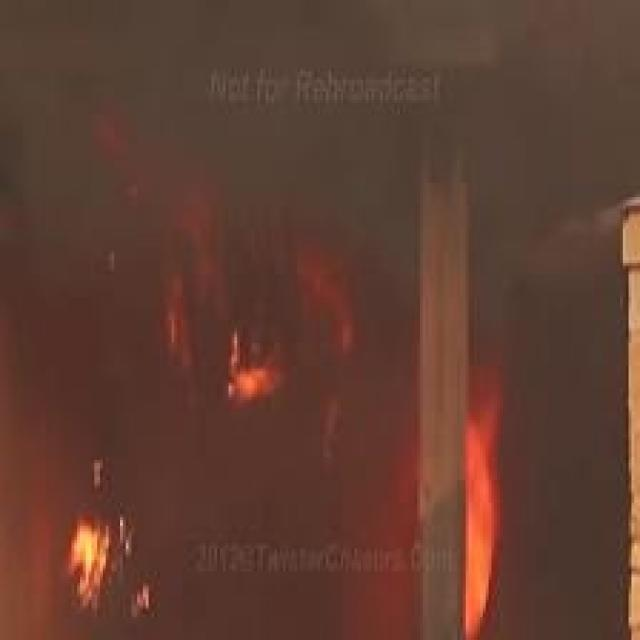Fire: (463, 368, 503, 640), (67, 516, 153, 624), (224, 332, 290, 406)
